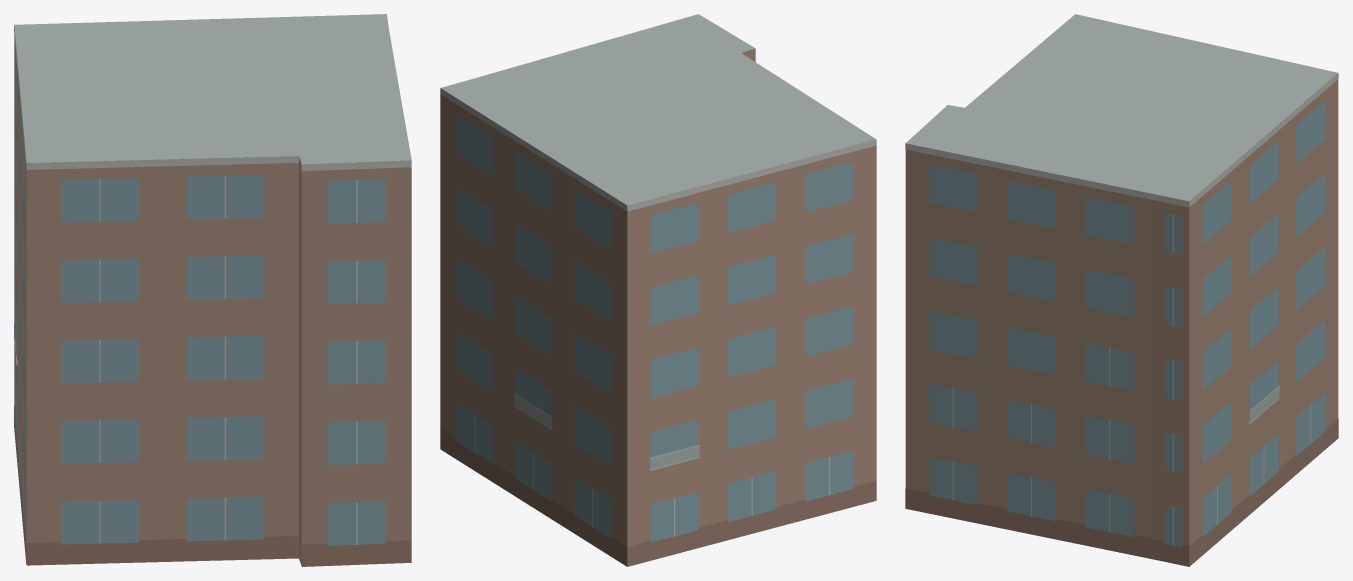
The model's file is survey-upis-32782571.glb.
The picture shows the model from 3 angles, left to right: view 1: azimuth 30°, elevation 25°; view 2: azimuth 150°, elevation 25°; view 3: azimuth 270°, elevation 25°; orthographic projection. The views are drawn at different scales.
Visible parts, largest first — view 1: survey-upis-32782571.tmp; view 2: survey-upis-32782571.tmp; view 3: survey-upis-32782571.tmp.
Part boxes in pixels (box(x1,y1,x2,y2)): survey-upis-32782571.tmp: box(14, 14, 411, 566); survey-upis-32782571.tmp: box(440, 14, 876, 566); survey-upis-32782571.tmp: box(905, 14, 1338, 566).
Bounding box in the file's own units: 15.85 × 14.4 × 15.47.
